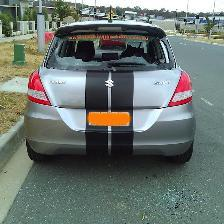glass_shatter: (45, 22, 181, 83)
